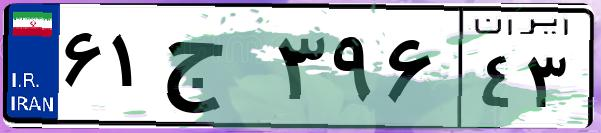1: (110, 28, 158, 98)
3: (270, 28, 330, 110), (525, 38, 570, 115)
4: (475, 38, 525, 113)
6: (385, 28, 445, 110), (57, 26, 110, 100)
9: (330, 28, 385, 110)
ج: (158, 20, 270, 120)
